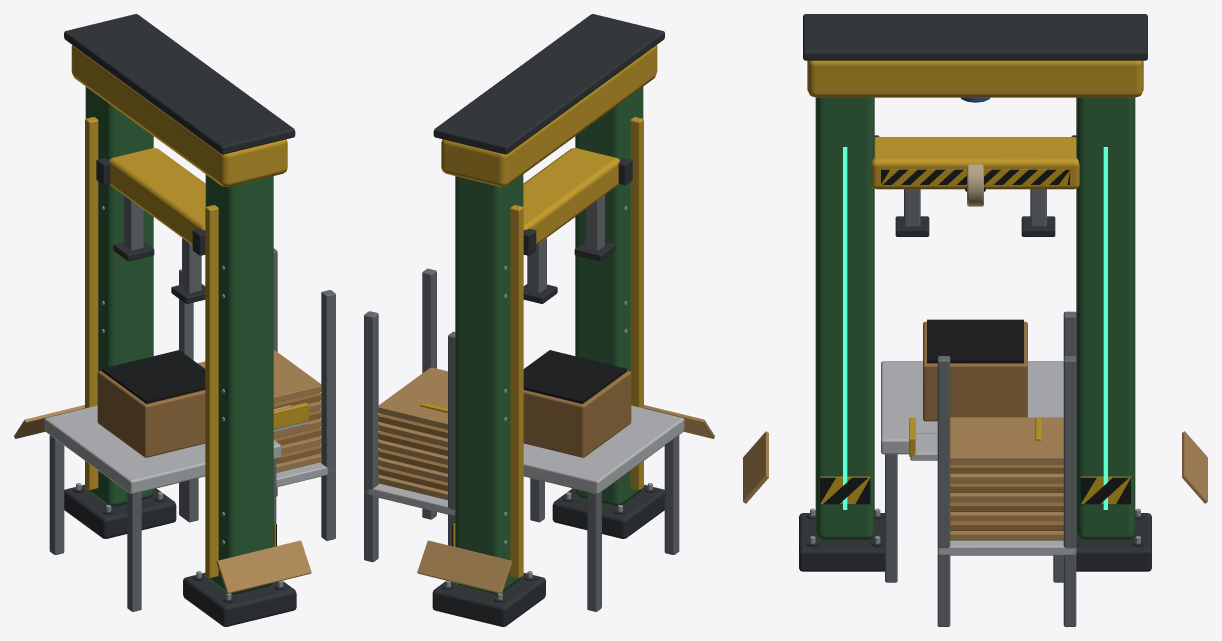
File: lc_cpacker.glb
3 views of the same model, side by side, from view 1: azimuth 30°, elevation 25°; view 2: azimuth 150°, elevation 25°; view 3: azimuth 270°, elevation 25° (orthographic). The views are drawn at different scales.
Parts seen in each view (by area): view 1: block.006, block.010, block.002, block.009, block.011, block.016, block.023, block.007, block.003, block.031, block.019, block.005 (+14 smaller); view 2: block.002, block.010, block.006, block.009, block.011, block.016, block.023, block.003, block.007, block.032, block.019, block.001 (+21 smaller); view 3: block.002, block.006, block.010, block.009, block.023, block.011, block.016, block.042, block.019, block.031, block.032, block.005 (+20 smaller).
Part boxes in pixels (x1,y1,x2,y2): block.006: (205,174,273,594); block.010: (64,14,295,154); block.002: (85,87,153,506); block.009: (71,45,287,186); block.011: (44,405,281,494); block.016: (97,370,205,457); block.023: (109,148,205,244); block.007: (205,205,218,578); block.003: (85,117,98,490); block.031: (321,290,335,540); block.019: (102,350,205,403); block.005: (183,573,296,626); block.002: (455,174,523,594); block.010: (433,14,664,154); block.006: (575,87,643,506); block.009: (441,45,657,186); block.011: (523,405,684,494); block.016: (523,370,631,457); block.023: (523,148,619,244); block.003: (510,205,523,578); block.007: (630,117,643,490); block.032: (364,311,378,562); block.019: (523,350,626,403); block.001: (432,573,545,626); block.002: (1076,97,1135,540); block.006: (815,97,874,540); block.010: (803,14,1147,60); block.009: (807,60,1143,97); block.023: (871,137,1079,189); block.011: (881,361,1063,454); block.016: (923,321,1027,421); block.042: (950,417,1063,464); block.019: (927,319,1023,363); block.031: (937,356,950,626); block.032: (1063,356,1076,626); block.005: (799,513,884,571).
Bounding box in the file's own units: 1.38 × 2.74 × 2.21.
